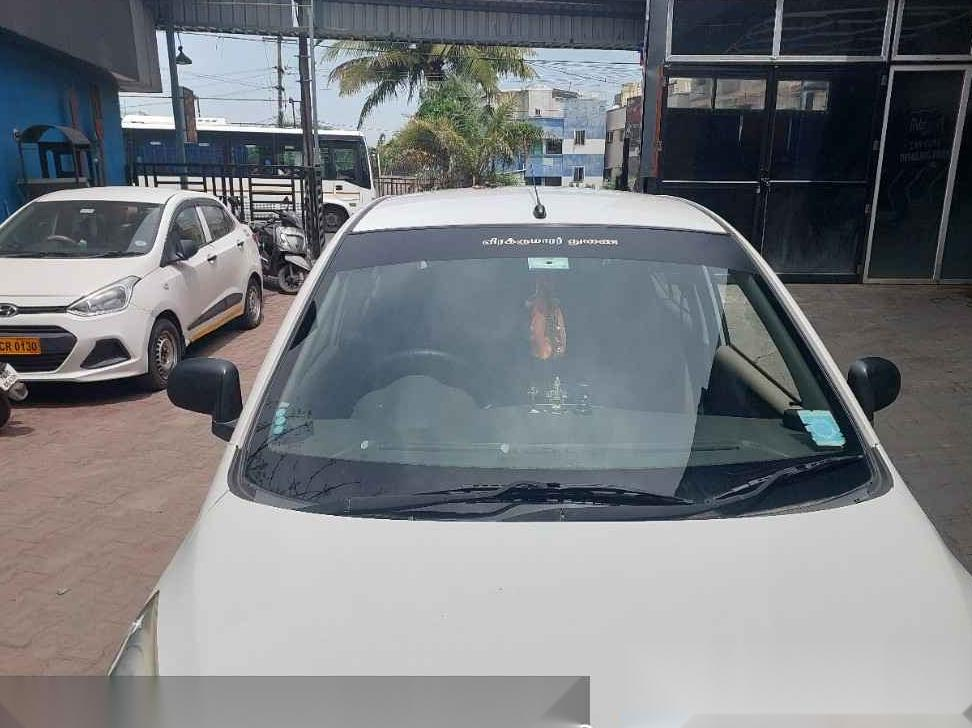FastTag: (518, 241, 586, 285)
not a FastTag: (787, 404, 853, 457)
